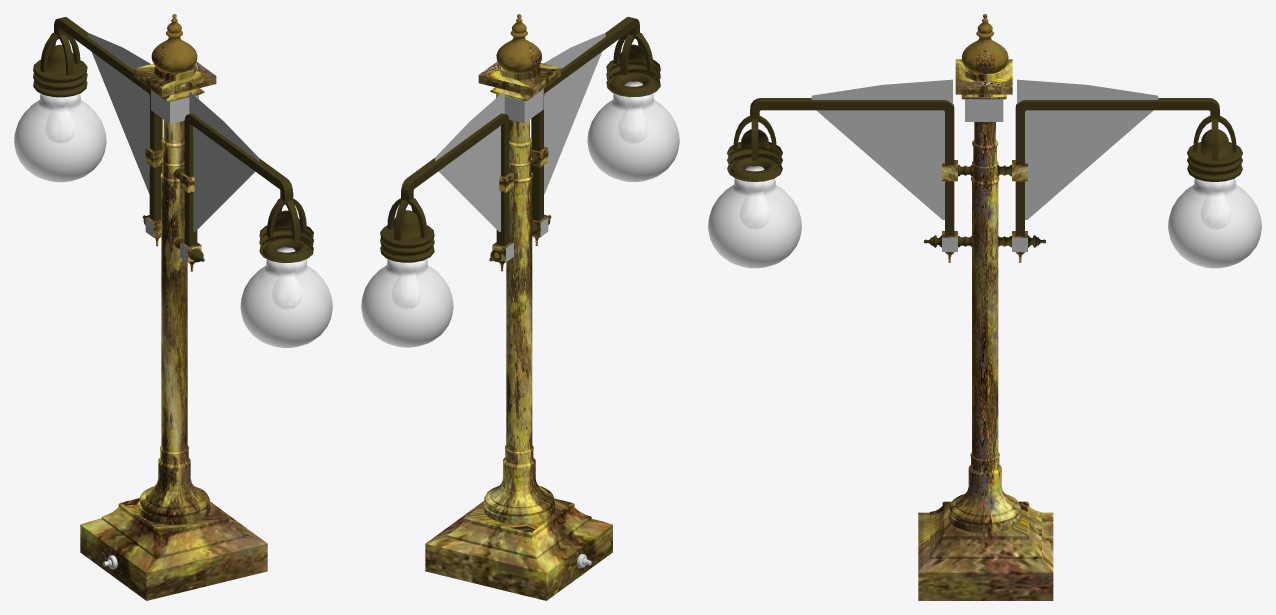
The model's file is luminaria_bancada_biblioteca.fbx.
The picture shows the model from 3 angles, left to right: view 1: azimuth 30°, elevation 25°; view 2: azimuth 150°, elevation 25°; view 3: azimuth 270°, elevation 25°; orthographic projection.
Parts seen in each view (by area): view 1: luminaria_bancada_bilioteca; view 2: luminaria_bancada_bilioteca; view 3: luminaria_bancada_bilioteca.
Part boxes in pixels (box(x1,y1,x2,y2)): luminaria_bancada_bilioteca: box(14, 14, 332, 600); luminaria_bancada_bilioteca: box(361, 14, 679, 600); luminaria_bancada_bilioteca: box(708, 14, 1261, 600).
Bounding box in the file's own units: 141 × 561 × 506.
